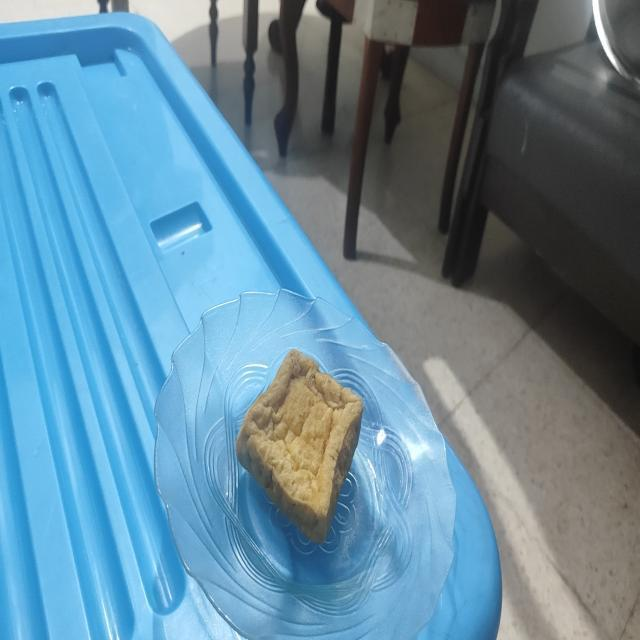tahu_goreng: (236, 349, 363, 544)
